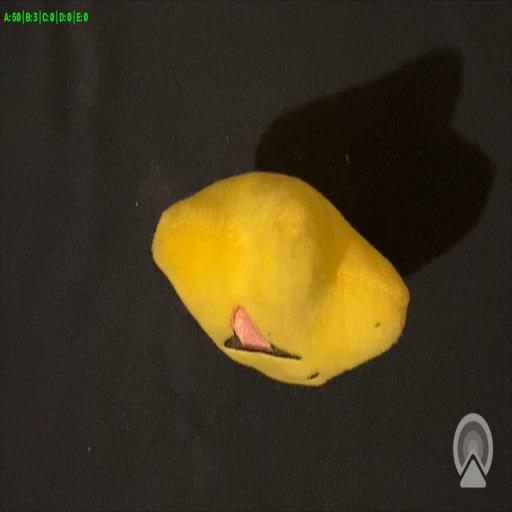estrella: (151, 173, 410, 387)
